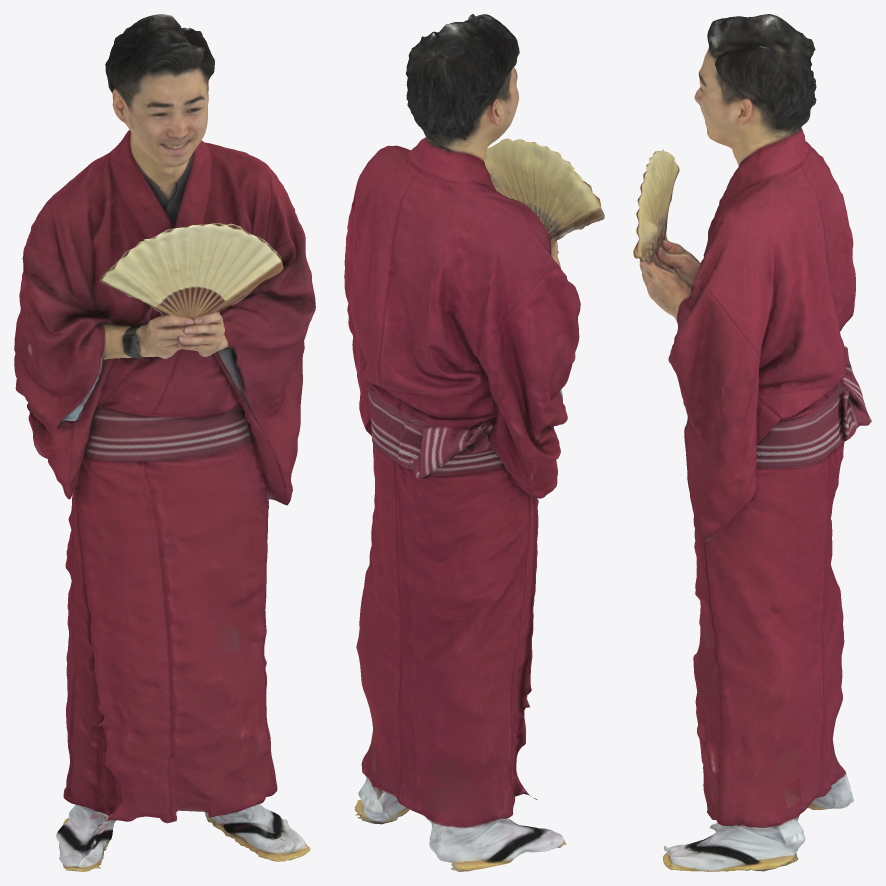
The model's file is toda_yuki_kimono.glb.
The picture shows the model from 3 angles, left to right: view 1: azimuth 30°, elevation 25°; view 2: azimuth 150°, elevation 25°; view 3: azimuth 270°, elevation 25°; orthographic projection. The views are drawn at different scales.
Visible parts, largest first — view 1: Object_2, Object_3, Object_4; view 2: Object_2, Object_3, Object_4; view 3: Object_3, Object_2, Object_4.
Part boxes in pixels (x1,y1,x2,y2): Object_2: [14, 14, 315, 871]; Object_3: [19, 14, 310, 870]; Object_4: [103, 32, 315, 721]; Object_2: [344, 14, 604, 871]; Object_3: [344, 15, 603, 871]; Object_4: [344, 30, 601, 846]; Object_3: [640, 14, 867, 871]; Object_2: [633, 14, 871, 871]; Object_4: [633, 146, 854, 807].
Bounding box in the file's own units: 5.64 × 17.45 × 4.68.
2 materials, 2 textured.
